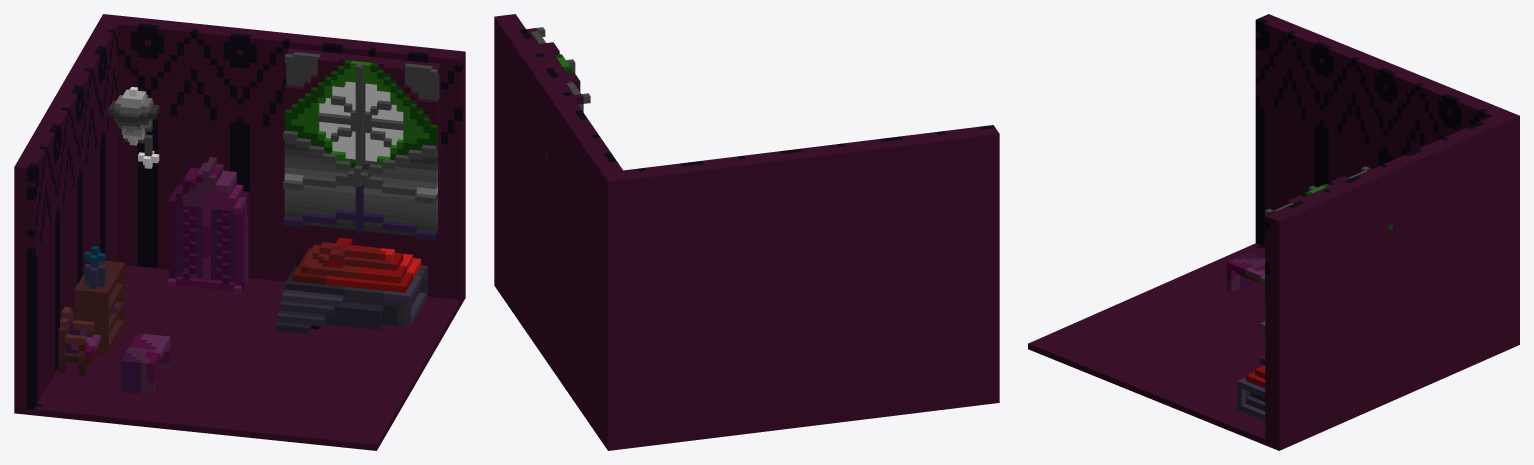
File: room_dark_magic.glb
3 renders of one model, left to right at view 1: azimuth 30°, elevation 25°; view 2: azimuth 150°, elevation 25°; view 3: azimuth 270°, elevation 25°, orthographic. The views are drawn at different scales.
Parts seen in each view (by area): view 1: palette__geom; view 2: palette__geom; view 3: palette__geom.
Part boxes in pixels (<box>): palette__geom: <box>14,14,465,450</box>; palette__geom: <box>494,14,999,450</box>; palette__geom: <box>1028,14,1519,450</box>.
Bounding box in the file's own units: 154 × 79.31 × 154.
1 material, 1 textured.
